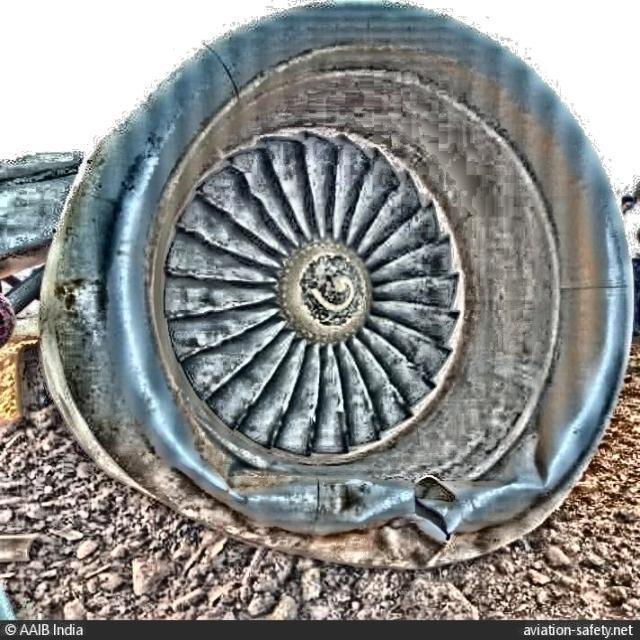crack: (409, 481, 454, 544)
dent: (230, 473, 413, 527), (507, 431, 555, 491)
